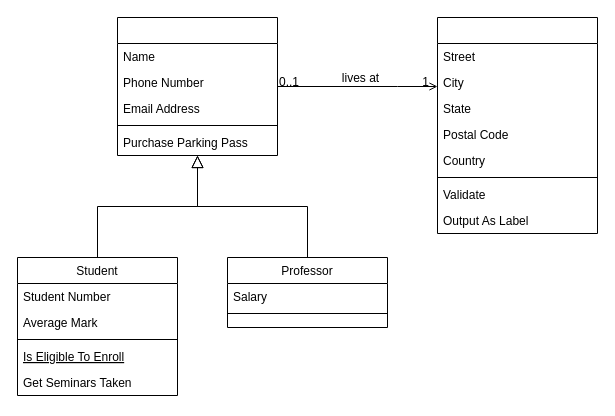
The diagram is 615 pixels wide and 416 high, and some of its shapes have lost their labels. The shapes that lost their labels are listed below. From the top down, each one's box as (x1, y1, x2, y2) in pixels, then its label:
(116, 16, 278, 156): Person CCC
(436, 16, 598, 234): Address
